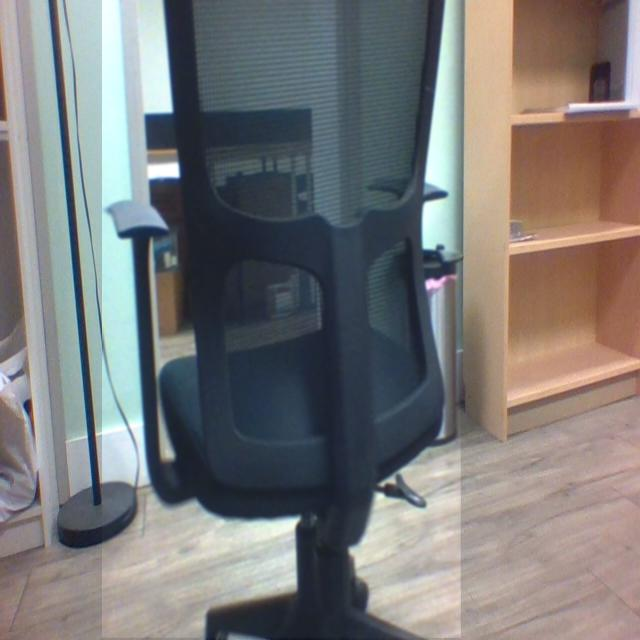black-chair: (102, 0, 462, 639)
